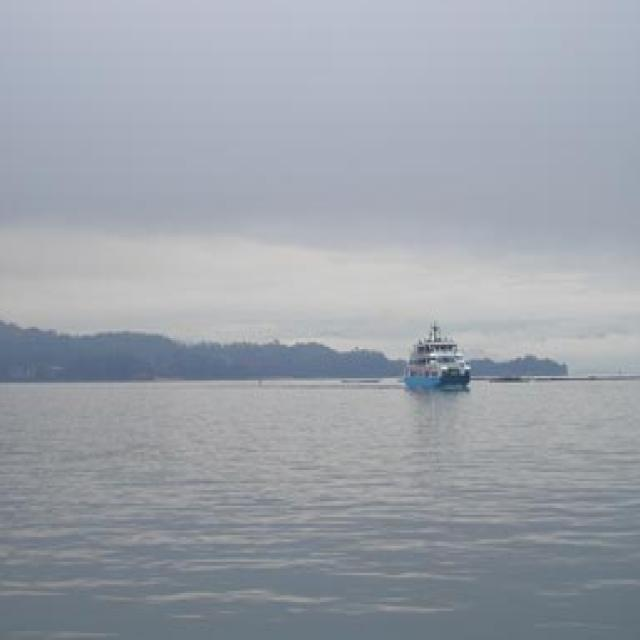passenger ship: (404, 329, 476, 391)
